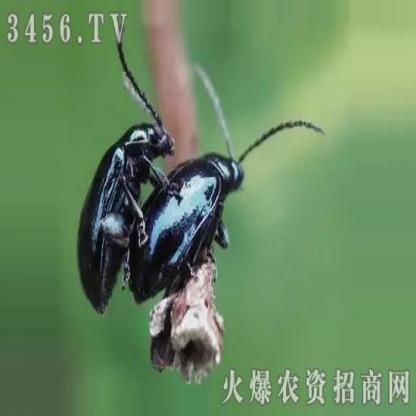beetle: (70, 49, 174, 312), (124, 126, 249, 304)
